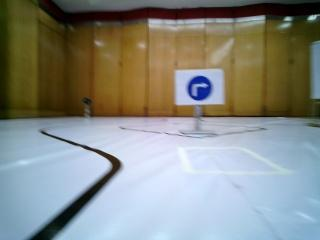right: (175, 67, 226, 105)
